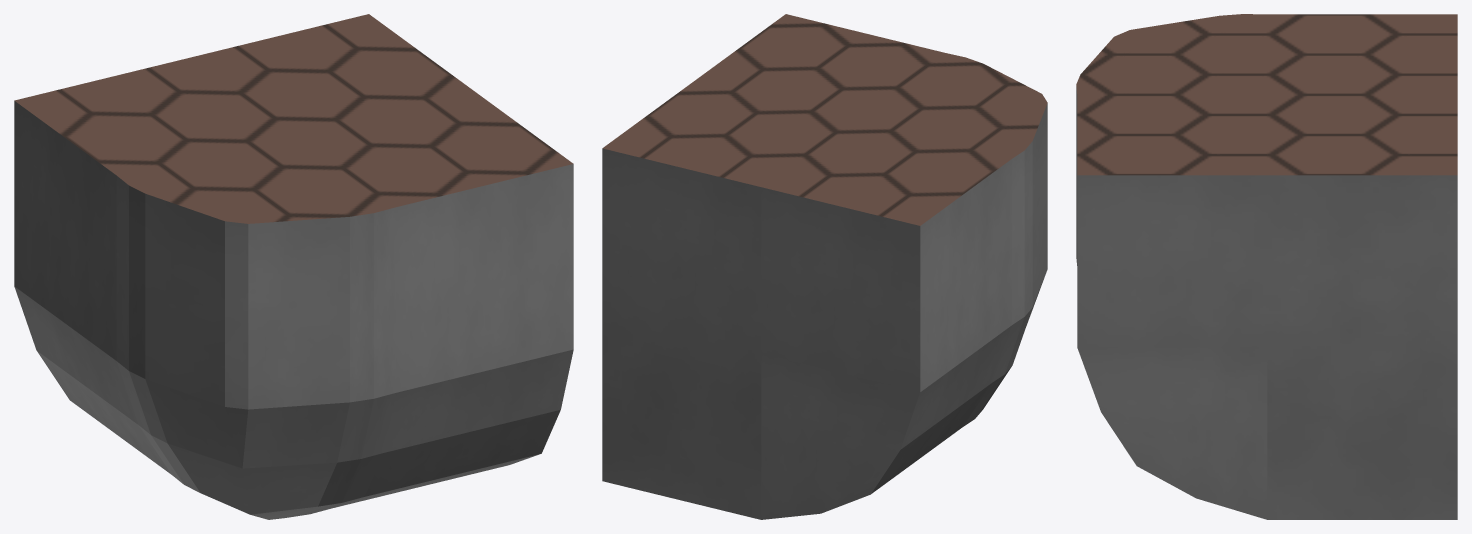
The model's file is dc_metro_mezzanine_3c.obj.
The picture shows the model from 3 angles, left to right: view 1: azimuth 30°, elevation 25°; view 2: azimuth 150°, elevation 25°; view 3: azimuth 270°, elevation 25°; orthographic projection. The views are drawn at different scales.
Parts seen in each view (by area): view 1: cube; view 2: cube; view 3: cube.
Boxes of the visible parts, box(x1,y1,x2,y2) form: cube: box(14, 14, 573, 519); cube: box(602, 14, 1047, 519); cube: box(1076, 14, 1457, 519).
Size of the model in its own units: 1 by 1 by 1.
Materials: 3 (3 with a texture image).
